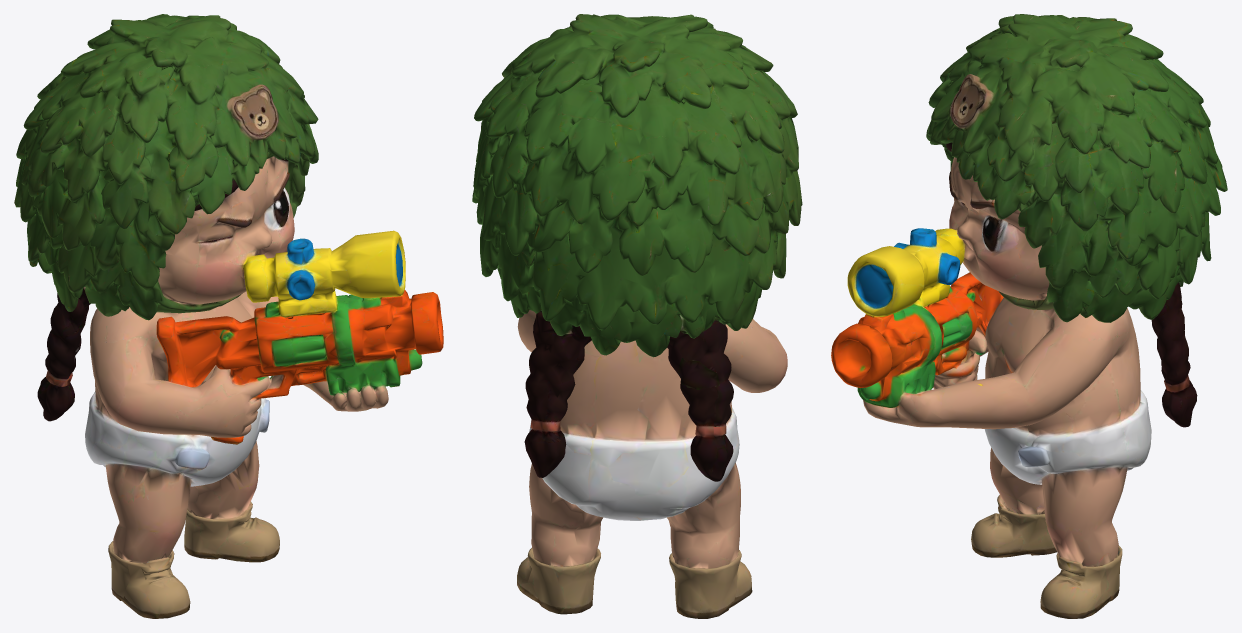
3 views of the same model, side by side, from view 1: azimuth 30°, elevation 25°; view 2: azimuth 150°, elevation 25°; view 3: azimuth 270°, elevation 25° (orthographic). The views are drawn at different scales.
Size of the model in its own units: 1.14 by 1.9 by 1.27.
Materials: 1 (1 with a texture image).
